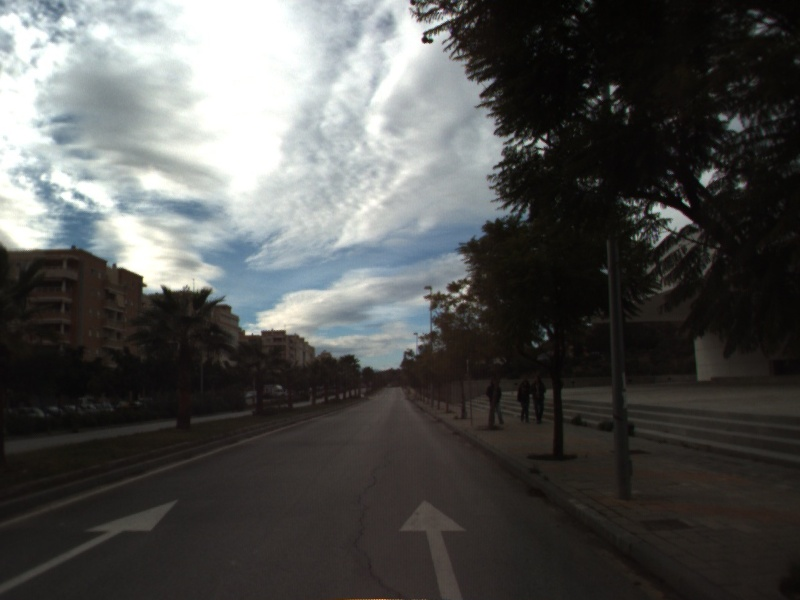STRAIGHT: (1, 497, 182, 594), (396, 498, 469, 600)
